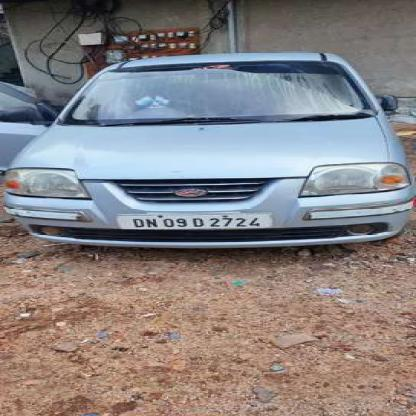license_plate: (116, 212, 271, 226)
